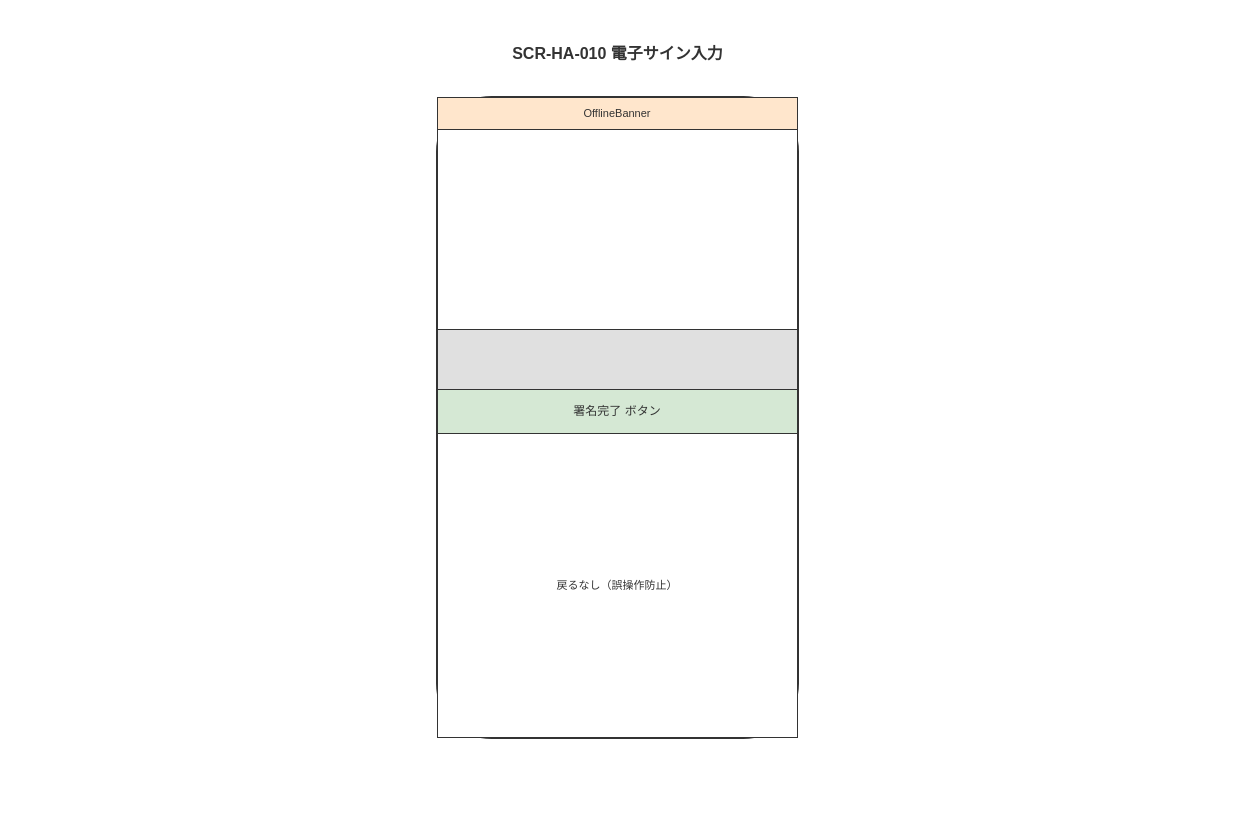
This 1234x834 diagram has some shape labels left out. The centre of each missing label's shape, as x and y in pixels:
"ElectronicSignPad (CMP-HA-005) 署名パッドエリア [ここに署名してください]" goes at point (617, 229).
"PIN 入力 (4-8桁) [●][●][●][●]" goes at point (617, 359).
